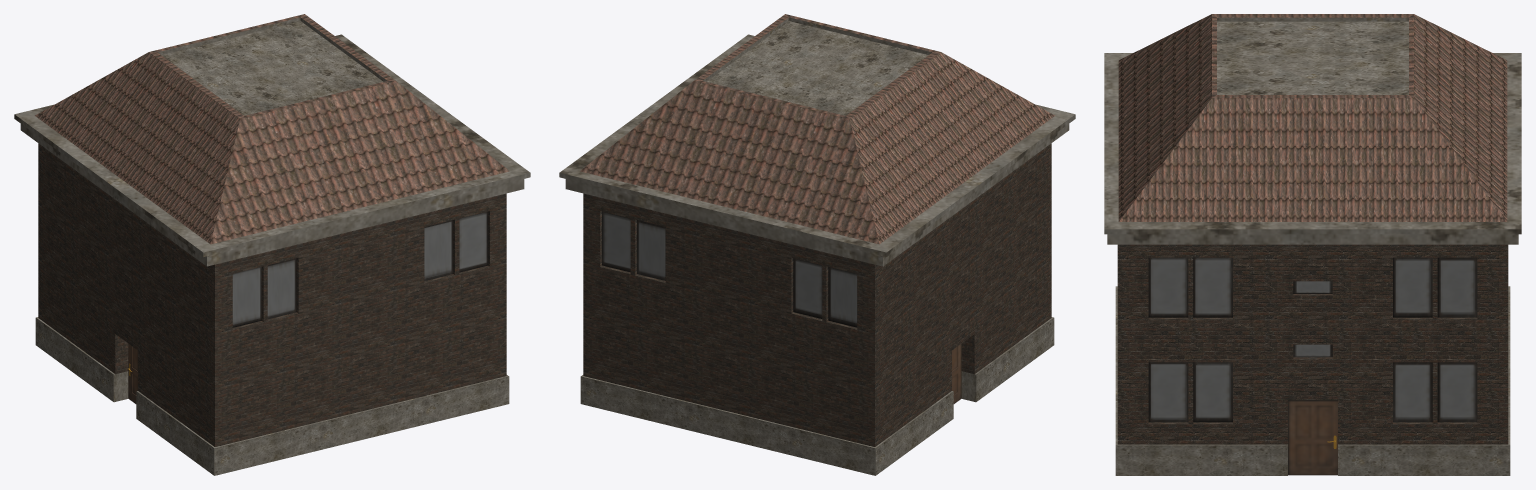
File: simple_house.glb
The picture shows the model from 3 angles, left to right: view 1: azimuth 30°, elevation 25°; view 2: azimuth 150°, elevation 25°; view 3: azimuth 270°, elevation 25°; orthographic projection. The views are drawn at different scales.
Parts seen in each view (by area): view 1: body; view 2: body; view 3: body.
Part boxes in pixels (x1,y1,x2,y2): body: (14, 14, 530, 475); body: (559, 14, 1075, 475); body: (1104, 14, 1521, 475).
Size of the model in its own units: 12 by 10.8 by 12.
6 materials, 6 textured.
